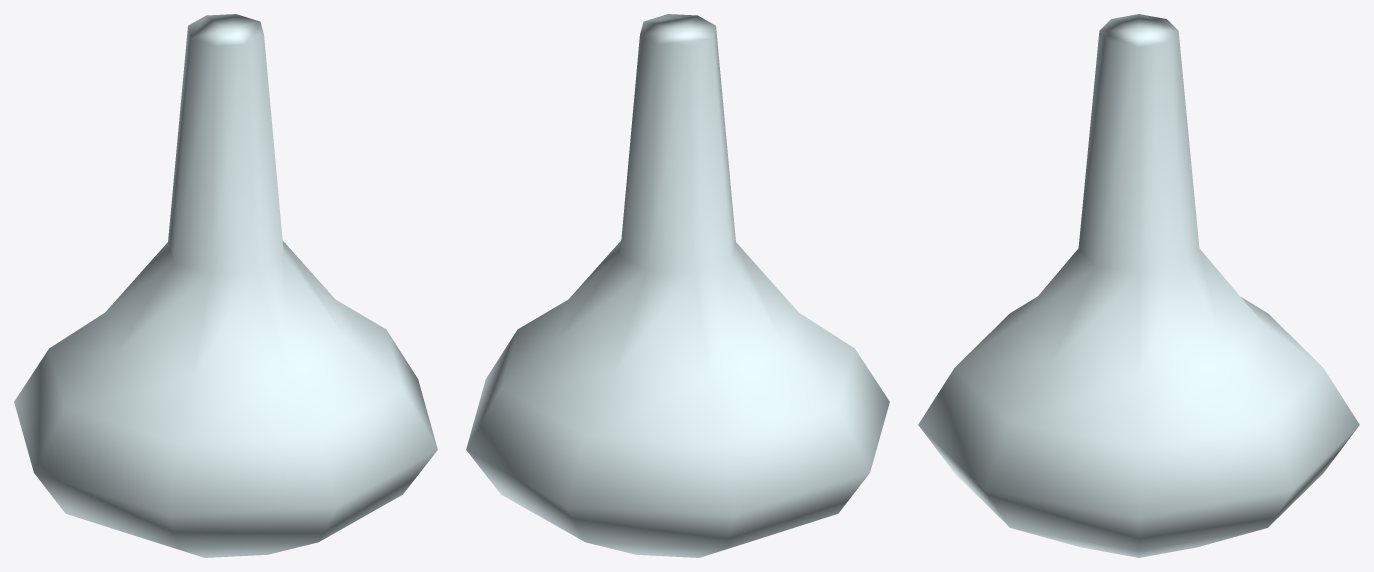
The model's file is Recipiente_2.obj.
3 views of the same model, side by side, from view 1: azimuth 30°, elevation 25°; view 2: azimuth 150°, elevation 25°; view 3: azimuth 270°, elevation 25° (orthographic).
Parts seen in each view (by area): view 1: pCube18; view 2: pCube18; view 3: pCube18.
Part boxes in pixels (left/top/right/bottom): pCube18: left=14, top=14, right=437, bottom=557; pCube18: left=466, top=14, right=889, bottom=557; pCube18: left=918, top=14, right=1359, bottom=557.
Bounding box in the file's own units: 43.01 × 52.85 × 43.01.
